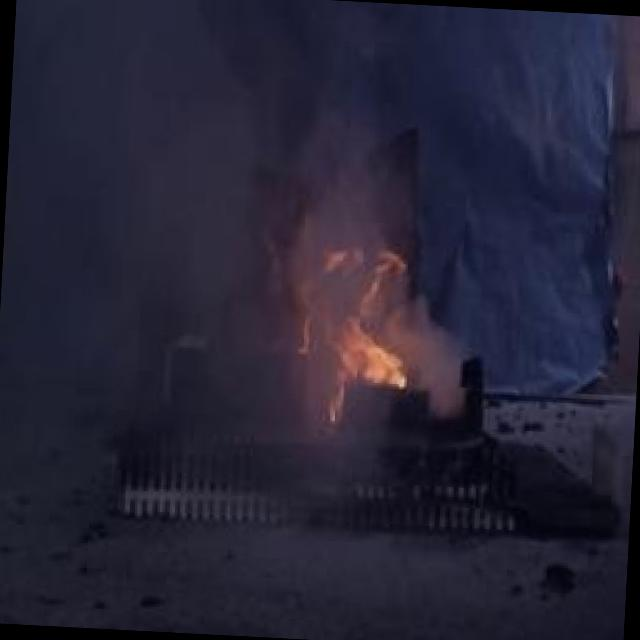fire: (306, 227, 424, 398)
